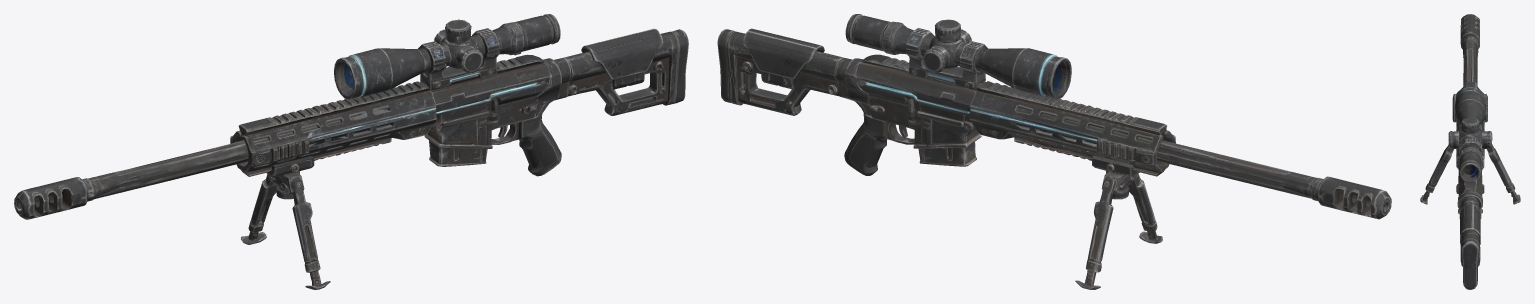
The model's file is gun_sniper-high.glb.
3 renders of one model, left to right at view 1: azimuth 30°, elevation 25°; view 2: azimuth 150°, elevation 25°; view 3: azimuth 270°, elevation 25°, orthographic. The views are drawn at different scales.
Visible parts, largest first — view 1: Mesh_0; view 2: Mesh_0; view 3: Mesh_0.
Part boxes in pixels (<box>): Mesh_0: <box>14,14,688,289</box>; Mesh_0: <box>717,14,1391,289</box>; Mesh_0: <box>1420,14,1520,289</box>.
Size of the model in its own units: 1.9 by 0.5464 by 0.3501.
1 material, 1 textured.
